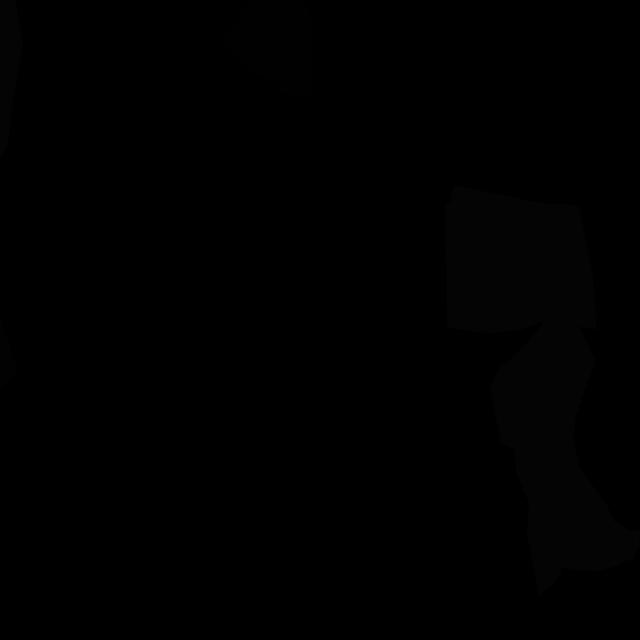cardboard: (0, 317, 18, 389)
rigid_plastic: (222, 0, 312, 97)
soft_plastic: (490, 317, 640, 596), (445, 185, 597, 333)
